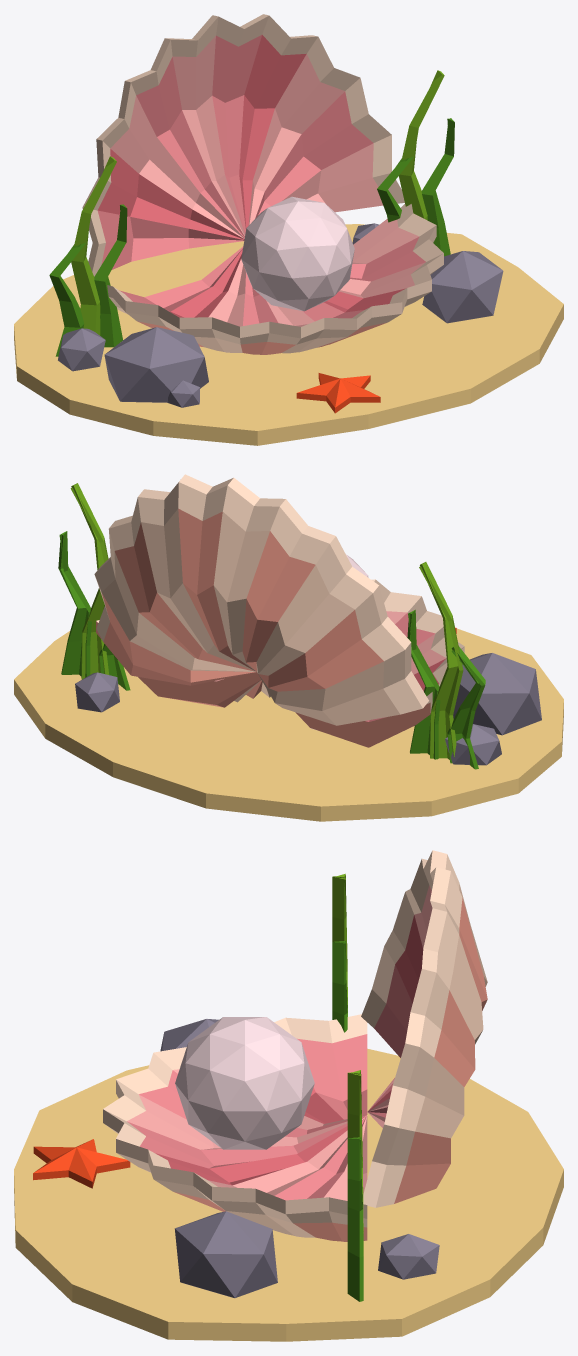
Rendered from PearlShell.glb.
3 views of the same model, one above another, from view 1: azimuth 30°, elevation 25°; view 2: azimuth 150°, elevation 25°; view 3: azimuth 270°, elevation 25° (orthographic). The views are drawn at different scales.
Parts seen in each view (by area): view 1: PearlShell_Sand, PearlShell_ShellPink, PearlShell_ShellBlush, PearlShell_CreamRim, PearlShell_Rock, PearlShell_ShellCoral, PearlShell_Pearl, PearlShell_Seaweed, PearlShell_SeaweedLight, PearlShell_Starfish, PearlShell_OuterCream, PearlShell_OuterPeach; view 2: PearlShell_Sand, PearlShell_OuterPeach, PearlShell_OuterCream, PearlShell_CreamRim, PearlShell_Rock, PearlShell_Seaweed, PearlShell_SeaweedLight, PearlShell_ShellBlush; view 3: PearlShell_Sand, PearlShell_CreamRim, PearlShell_Pearl, PearlShell_ShellPink, PearlShell_Rock, PearlShell_OuterPeach, PearlShell_ShellBlush, PearlShell_OuterCream, PearlShell_ShellCoral, PearlShell_Seaweed, PearlShell_Starfish, PearlShell_SeaweedLight.
Boxes of the visible parts, box(x1,y1,x2,y2) form: PearlShell_Sand: box(14, 224, 563, 445); PearlShell_ShellPink: box(98, 35, 425, 325); PearlShell_ShellBlush: box(110, 36, 425, 326); PearlShell_CreamRim: box(82, 14, 443, 344); PearlShell_Rock: box(58, 223, 503, 407); PearlShell_ShellCoral: box(97, 35, 405, 317); PearlShell_Pearl: box(241, 196, 354, 311); PearlShell_Seaweed: box(49, 118, 454, 356); PearlShell_SeaweedLight: box(71, 70, 444, 335); PearlShell_Starfish: box(296, 373, 380, 413); PearlShell_OuterCream: box(117, 303, 412, 353); PearlShell_OuterPeach: box(137, 321, 386, 354); PearlShell_Sand: box(14, 628, 563, 821); PearlShell_OuterPeach: box(96, 508, 430, 747); PearlShell_OuterCream: box(101, 509, 400, 730); PearlShell_CreamRim: box(94, 474, 464, 714); PearlShell_Rock: box(75, 653, 541, 765); PearlShell_Seaweed: box(58, 531, 485, 769); PearlShell_SeaweedLight: box(70, 483, 463, 759); PearlShell_ShellBlush: box(214, 611, 445, 681); PearlShell_Sand: box(14, 1048, 563, 1341); PearlShell_CreamRim: box(103, 850, 462, 1227); PearlShell_Pearl: box(175, 1017, 314, 1149); PearlShell_ShellPink: box(127, 886, 431, 1200); PearlShell_Rock: box(160, 1019, 439, 1298); PearlShell_OuterPeach: box(173, 898, 487, 1241); PearlShell_ShellBlush: box(127, 885, 432, 1200); PearlShell_OuterCream: box(143, 882, 487, 1237); PearlShell_ShellCoral: box(155, 915, 423, 1185); PearlShell_Seaweed: box(332, 941, 363, 1301); PearlShell_Starfish: box(33, 1139, 130, 1188); PearlShell_SeaweedLight: box(332, 873, 363, 1255).
Size of the model in its own units: 6.08 by 3.47 by 5.03.
Materials: 1 (1 with a texture image).
